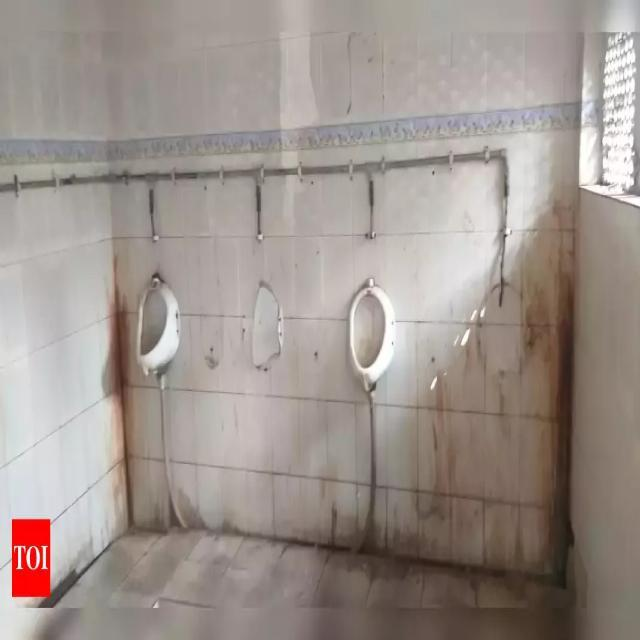dirty_floor: (105, 146, 572, 584), (31, 526, 574, 638)
